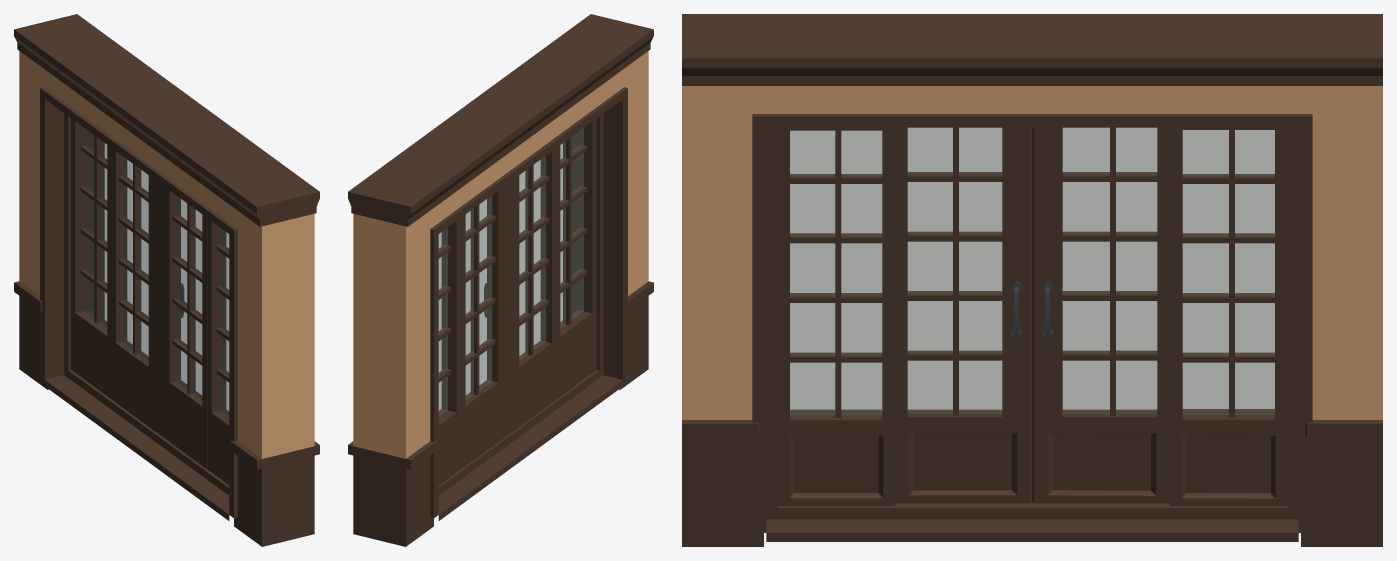
The model's file is S_BalconyDoorWall.fbx.
The picture shows the model from 3 angles, left to right: view 1: azimuth 30°, elevation 25°; view 2: azimuth 150°, elevation 25°; view 3: azimuth 270°, elevation 25°; orthographic projection. The views are drawn at different scales.
Visible parts, largest first — view 1: S_BalconyDoorWall; view 2: S_BalconyDoorWall; view 3: S_BalconyDoorWall.
Part boxes in pixels (x1,y1,x2,y2): S_BalconyDoorWall: (14,14,319,546); S_BalconyDoorWall: (348,14,653,546); S_BalconyDoorWall: (682,14,1382,546).
Size of the model in its own units: 59.94 by 310 by 400.
